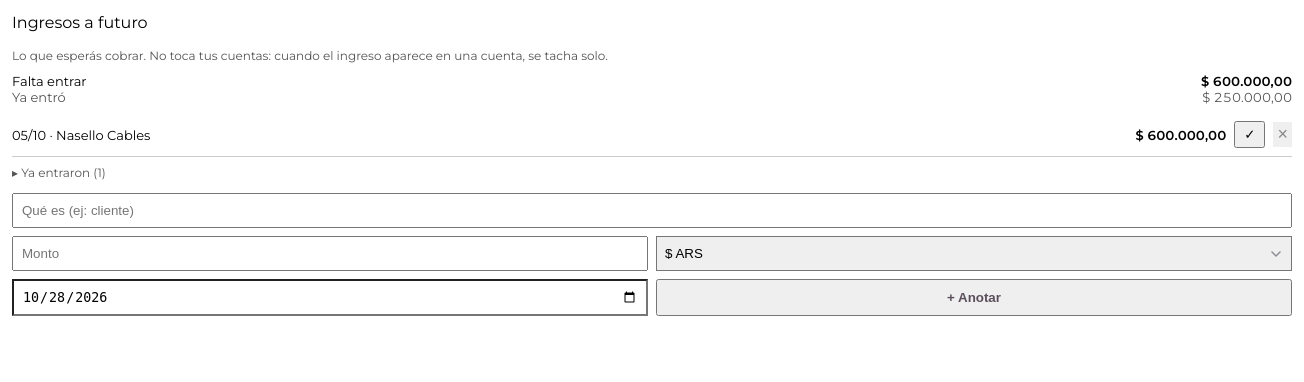
Scenario: lo que entró en una cuenta se tacha solo, y dice cuándo y dónde
Expected: the text "05/10 · Nasello Cables" is shown, [12, 126, 150, 142]
Click the button "▸ Ya entraron (1)": [59, 168] box [12, 157, 106, 180]
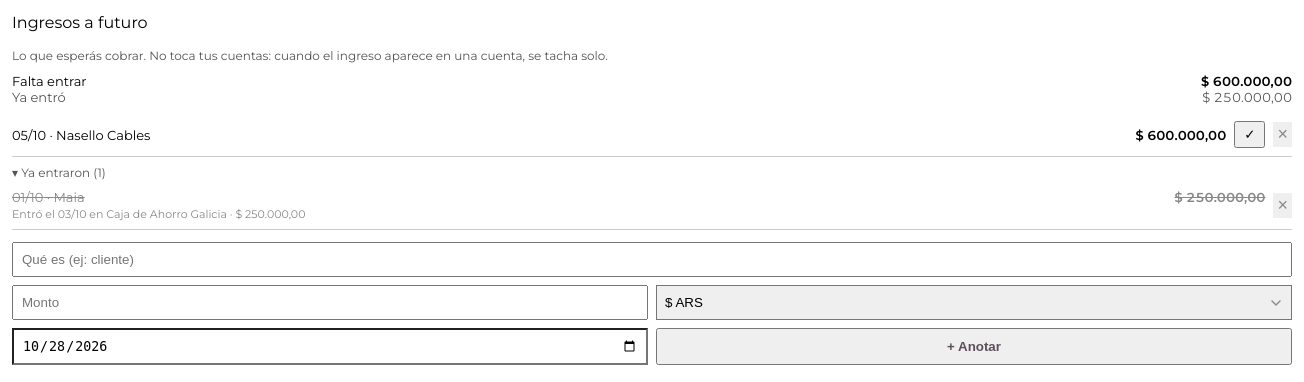
Expected: the text "Entró el 03/10 en Caja de Ahorro Galicia · $ 250.000,00" is shown, [12, 207, 305, 221]
